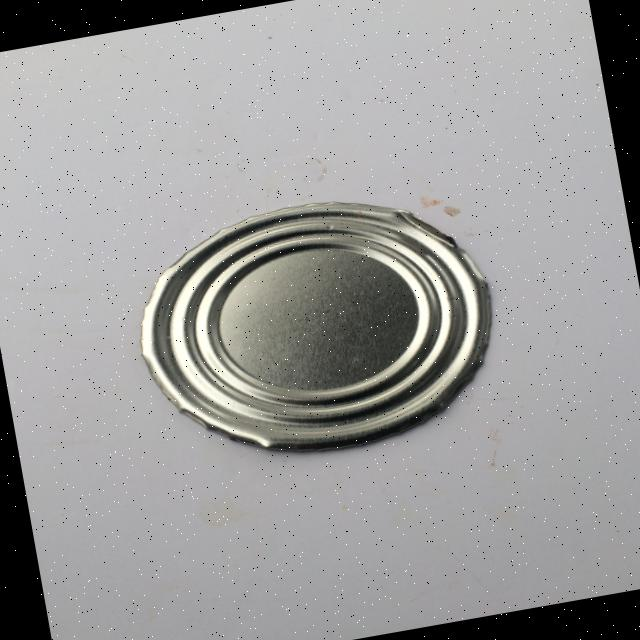metal: (119, 173, 513, 481)
